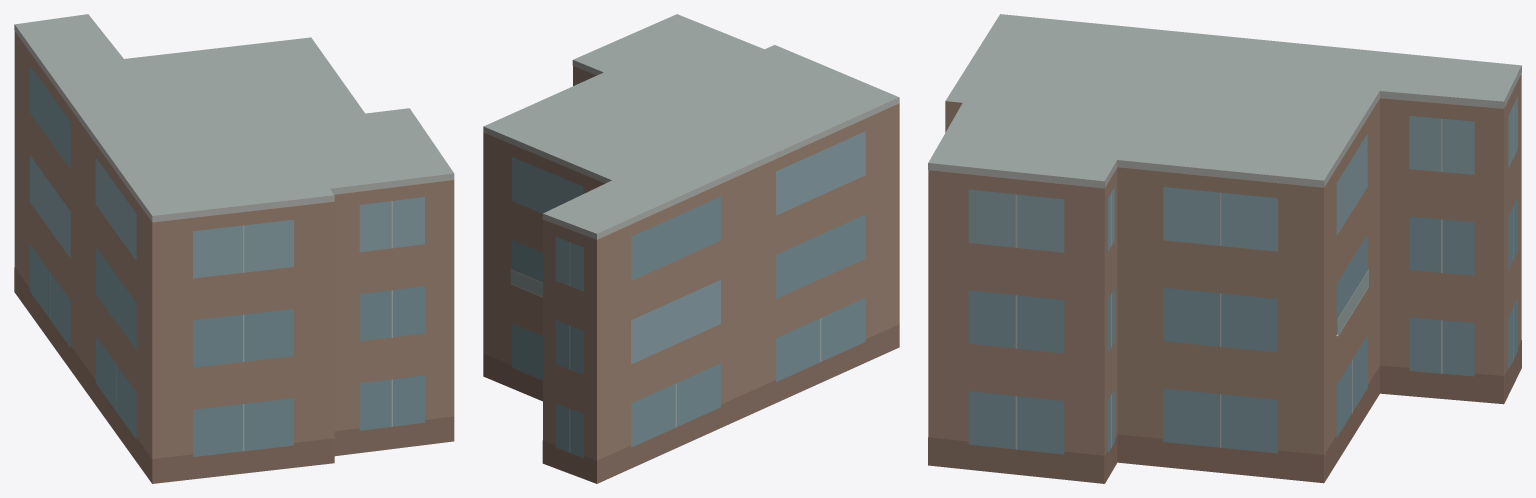
The model's file is survey-upis-33004849.glb.
The picture shows the model from 3 angles, left to right: view 1: azimuth 30°, elevation 25°; view 2: azimuth 150°, elevation 25°; view 3: azimuth 270°, elevation 25°; orthographic projection. The views are drawn at different scales.
Visible parts, largest first — view 1: survey-upis-33004849.tmp; view 2: survey-upis-33004849.tmp; view 3: survey-upis-33004849.tmp.
Boxes of the visible parts, x1,y1,x2,y2 form: survey-upis-33004849.tmp: [14, 14, 454, 483]; survey-upis-33004849.tmp: [483, 14, 899, 483]; survey-upis-33004849.tmp: [928, 14, 1521, 483].
Size of the model in its own units: 12.11 by 10.2 by 18.15.
